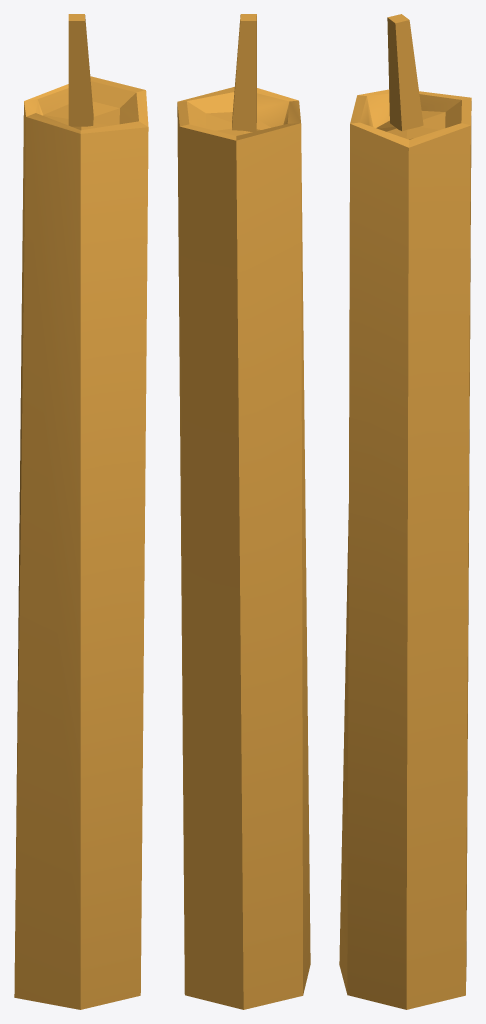
File: candle-stick-a-unlit.fbx
3 views of the same model, side by side, from view 1: azimuth 30°, elevation 25°; view 2: azimuth 210°, elevation 25°; view 3: azimuth 330°, elevation 25° (orthographic).
Parts seen in each view (by area): view 1: candle-stick-a-unlit; view 2: candle-stick-a-unlit; view 3: candle-stick-a-unlit.
Boxes of the visible parts, x1,y1,x2,y2 form: candle-stick-a-unlit: (14,14,148,1009); candle-stick-a-unlit: (177,14,310,1009); candle-stick-a-unlit: (339,14,471,1009).
Bounding box in the file's own units: 0.0394 × 0.2759 × 0.0324.
